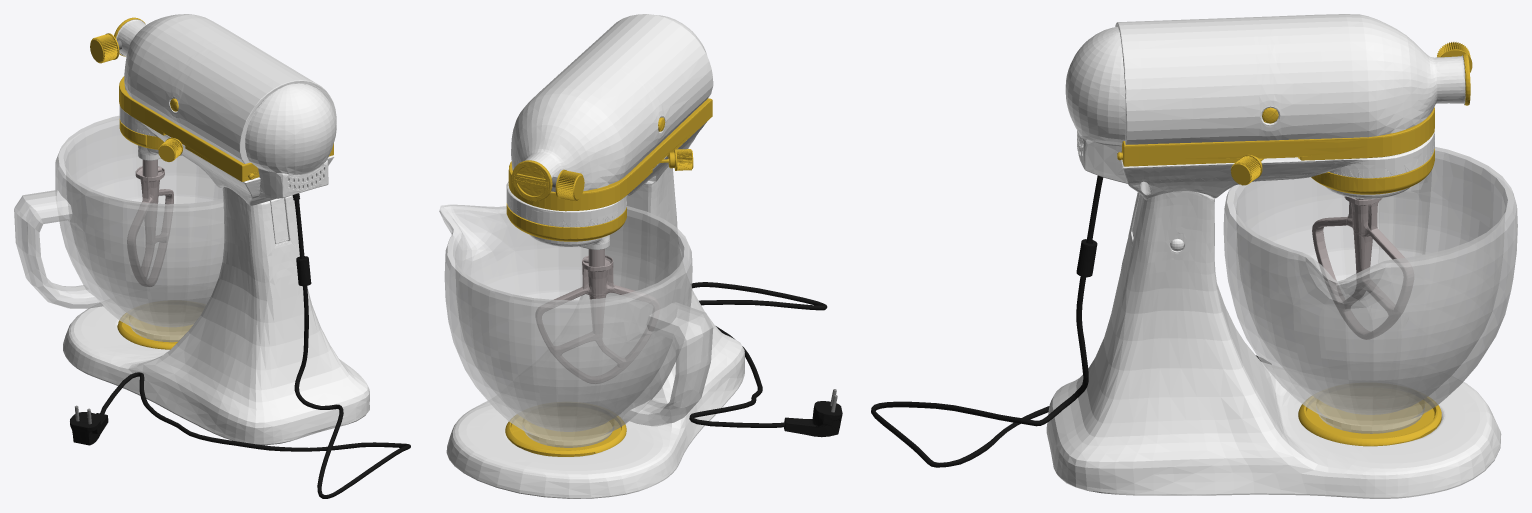
File: mixer_white.glb
3 views of the same model, side by side, from view 1: azimuth 30°, elevation 25°; view 2: azimuth 150°, elevation 25°; view 3: azimuth 270°, elevation 25° (orthographic). The views are drawn at different scales.
Parts seen in each view (by area): view 1: 4470295b-b1a4-4d05-807c-27aae7a9ef98; view 2: 4470295b-b1a4-4d05-807c-27aae7a9ef98; view 3: 4470295b-b1a4-4d05-807c-27aae7a9ef98.
Part boxes in pixels (left/top/right/bottom): 4470295b-b1a4-4d05-807c-27aae7a9ef98: left=14, top=14, right=410, bottom=498; 4470295b-b1a4-4d05-807c-27aae7a9ef98: left=439, top=14, right=842, bottom=498; 4470295b-b1a4-4d05-807c-27aae7a9ef98: left=871, top=14, right=1517, bottom=498.
Bounding box in the file's own units: 0.1264 × 0.1288 × 0.1797.
